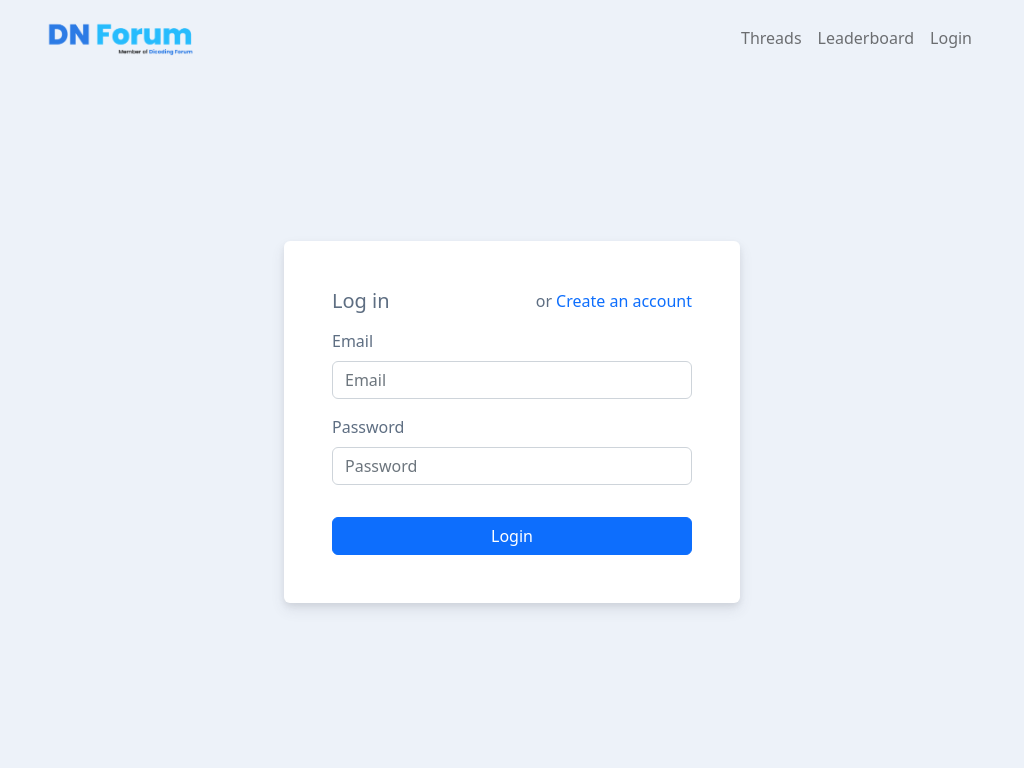
Login spec › should display alert when password is empty
The image size is (1024, 768).
In the field with placeholder "Email": [512, 380] box [332,361,692,399], type "testemail@mail.com"
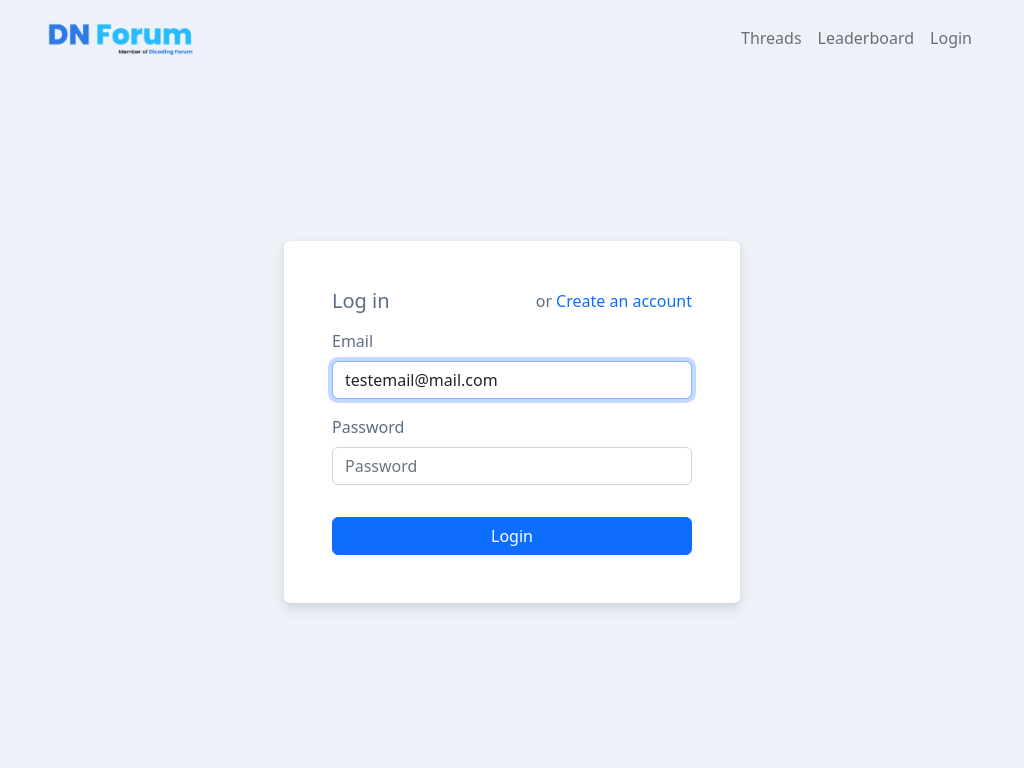
Click the button "Login": [512, 536] box [332,517,692,555]
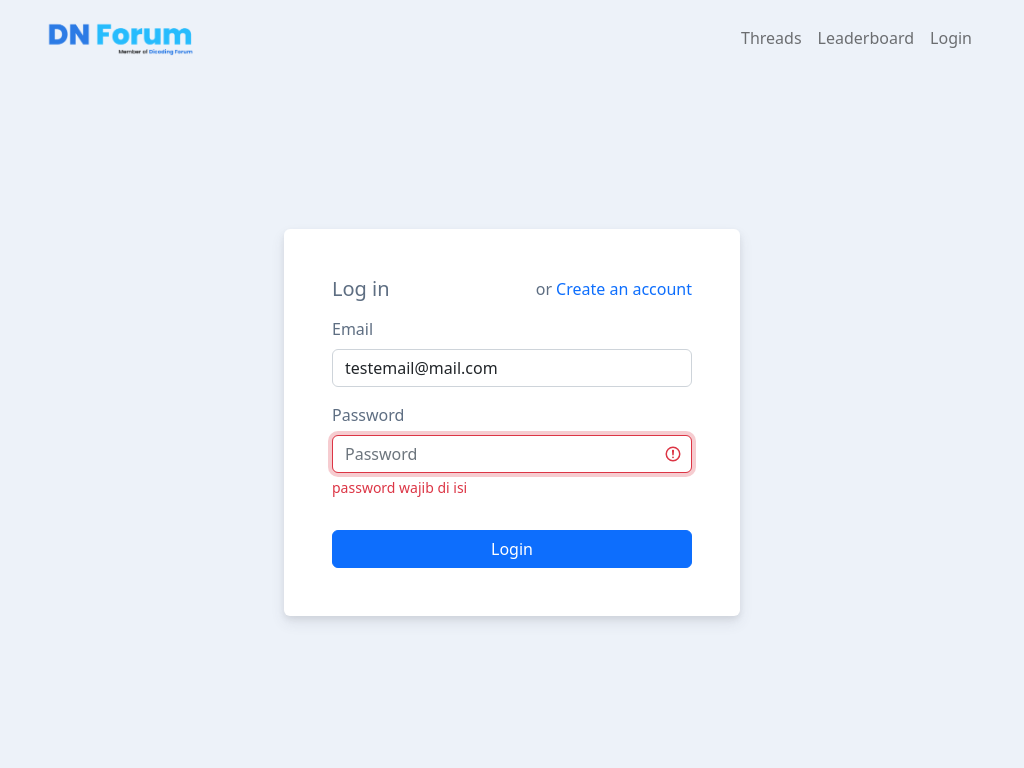
Now the text "password wajib di isi" is shown, box [332,478,467,496]
